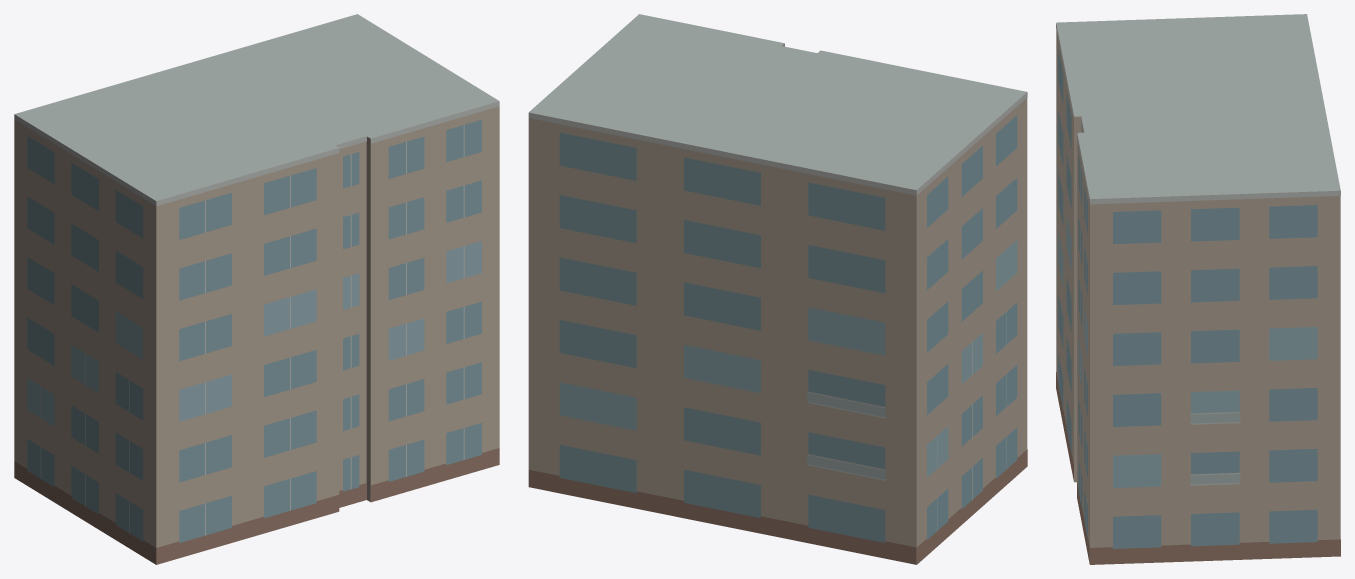
File: survey-upis-32757099.glb
3 renders of one model, left to right at view 1: azimuth 30°, elevation 25°; view 2: azimuth 150°, elevation 25°; view 3: azimuth 270°, elevation 25°, orthographic. The views are drawn at different scales.
Parts seen in each view (by area): view 1: survey-upis-32757099.tmp; view 2: survey-upis-32757099.tmp; view 3: survey-upis-32757099.tmp.
Part boxes in pixels (x1,y1,x2,y2): survey-upis-32757099.tmp: [14, 14, 499, 564]; survey-upis-32757099.tmp: [528, 14, 1027, 564]; survey-upis-32757099.tmp: [1056, 14, 1340, 564].
Bounding box in the file's own units: 18.69 × 17.2 × 12.15.
